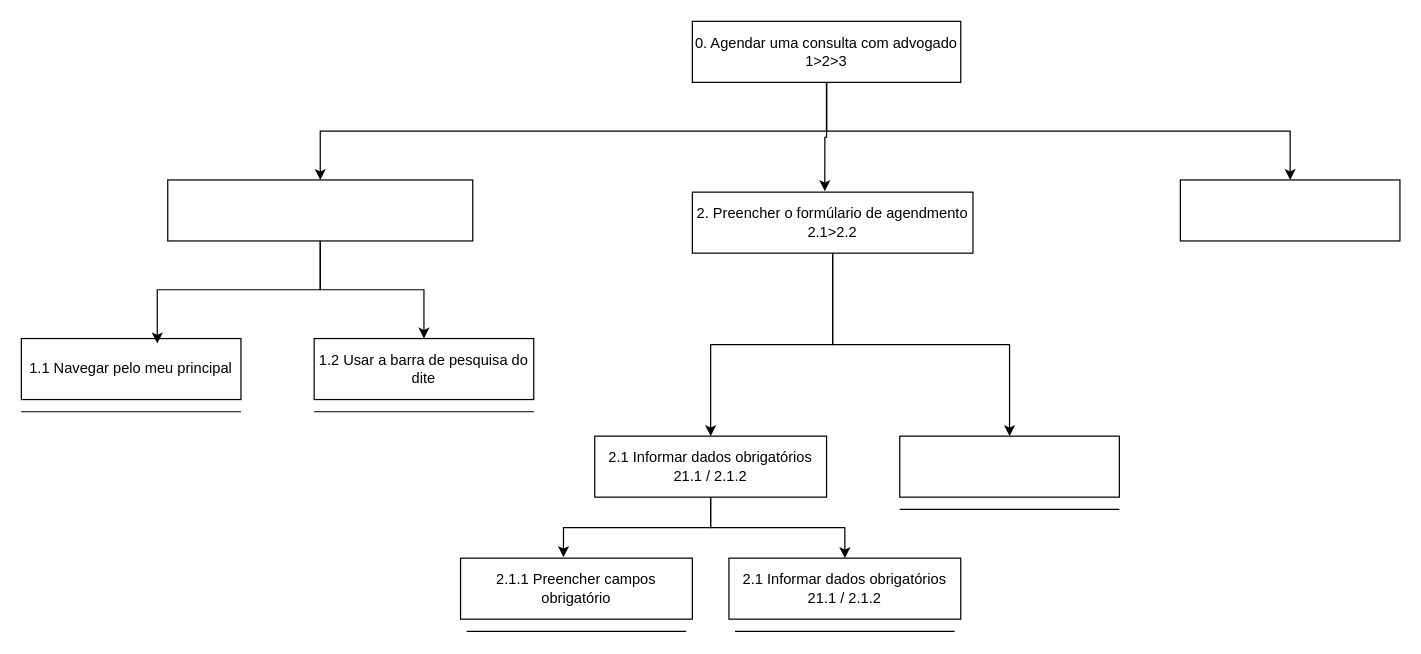
Some shapes in this 1421 by 654 pixel diagram are drawn without their labels. Here are the shapes that lost their labels. From the top down, the centre of each, then its label:
At point (320, 210): "1. Localizar a seção de agendamento de consultas com advogado 1.1/1.2".
At point (1289, 210): "3. Agendamento realizado com sucesso".
At point (1009, 466): "2.2. Escolher especialidade, dada, horario".
